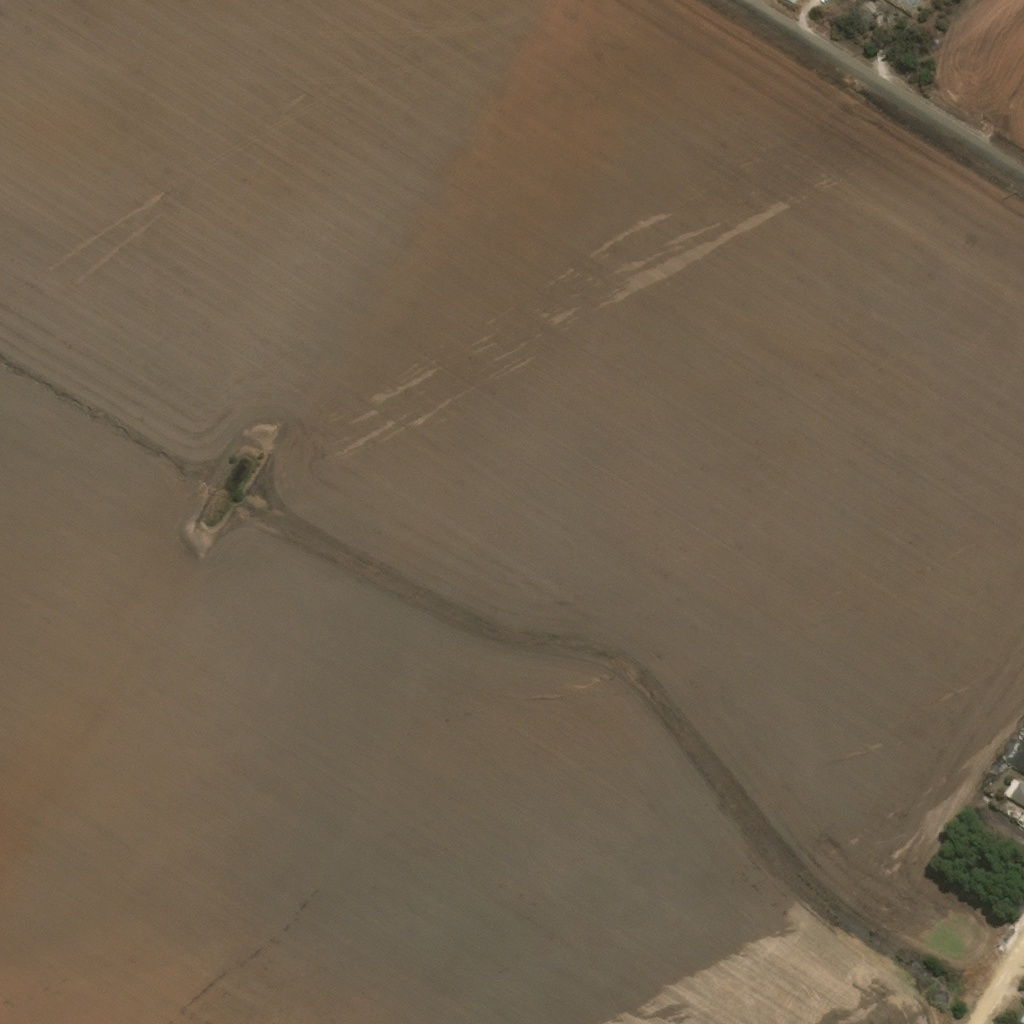3 destroyed: (1010, 808, 1023, 828), (1003, 808, 1010, 814)
4 un-classified: (1001, 776, 1023, 809)
